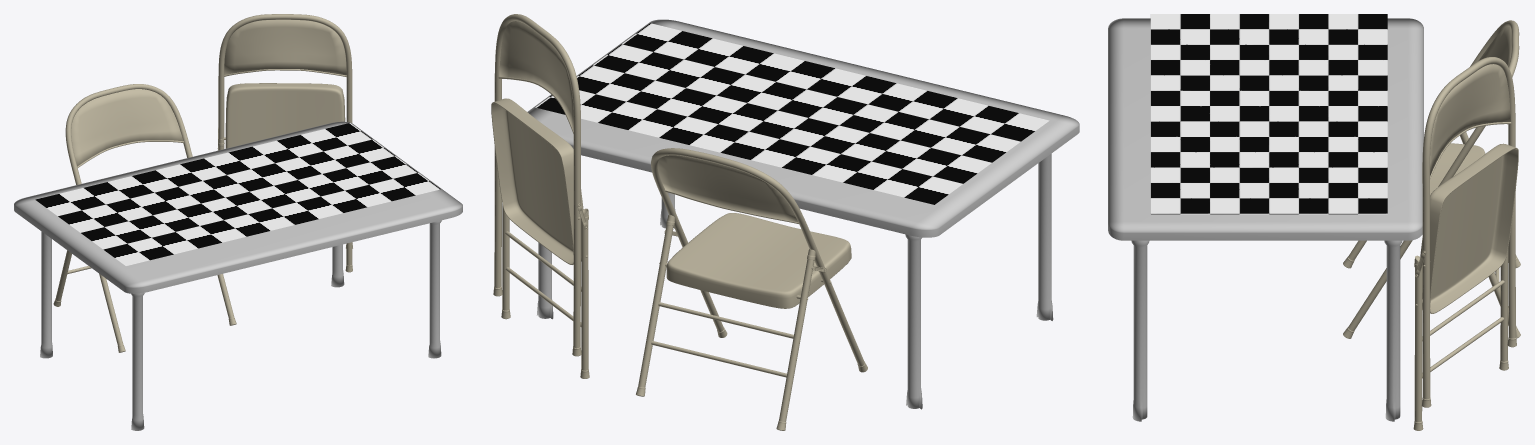
File: Mesa.obj
3 renders of one model, left to right at view 1: azimuth 30°, elevation 25°; view 2: azimuth 150°, elevation 25°; view 3: azimuth 270°, elevation 25°, orthographic. The views are drawn at different scales.
Visible parts, largest first — view 1: Plane001, Cube, foldi, foldingcha, Cylinder, Cylinder_001, Cylinder_003, Cylinder_002; view 2: Plane001, foldingcha, foldi, Cube, Cylinder_003, Cylinder, Cylinder_002; view 3: Plane001, Cube, foldi, foldingcha, Cylinder_002, Cylinder_001.
Boxes of the visible parts, x1=… form: Plane001: x1=35, y1=123, x2=440, y2=265; Cube: x1=14, y1=121, x2=462, y2=293; foldi: x1=217, y1=14, x2=352, y2=272; foldingcha: x1=53, y1=84, x2=236, y2=352; Cylinder: x1=131, y1=293, x2=144, y2=430; Cylinder_001: x1=428, y1=220, x2=441, y2=358; Cylinder_003: x1=40, y1=231, x2=52, y2=358; Cylinder_002: x1=331, y1=244, x2=344, y2=287; Plane001: x1=535, y1=23, x2=1049, y2=204; foldingcha: x1=636, y1=148, x2=867, y2=430; foldi: x1=491, y1=14, x2=589, y2=378; Cube: x1=527, y1=19, x2=1079, y2=237; Cylinder_003: x1=905, y1=234, x2=922, y2=409; Cylinder: x1=1036, y1=153, x2=1053, y2=320; Cylinder_002: x1=536, y1=242, x2=553, y2=319; Plane001: x1=1150, y1=14, x2=1387, y2=214; Cube: x1=1108, y1=18, x2=1423, y2=240; foldi: x1=1413, y1=57, x2=1518, y2=430; foldingcha: x1=1343, y1=20, x2=1520, y2=338; Cylinder_002: x1=1384, y1=240, x2=1402, y2=421; Cylinder_001: x1=1131, y1=240, x2=1149, y2=421.
Size of the model in its own units: 131 by 92.98 by 105.
